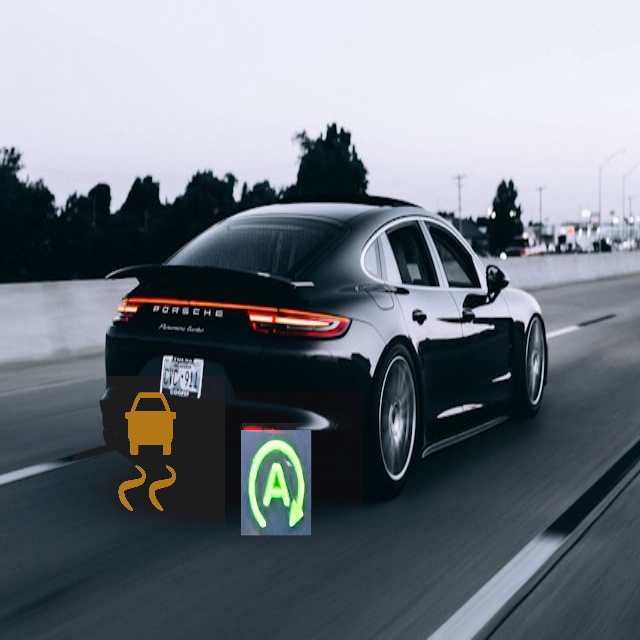symbol: (184, 391, 363, 570), (73, 376, 225, 528)
